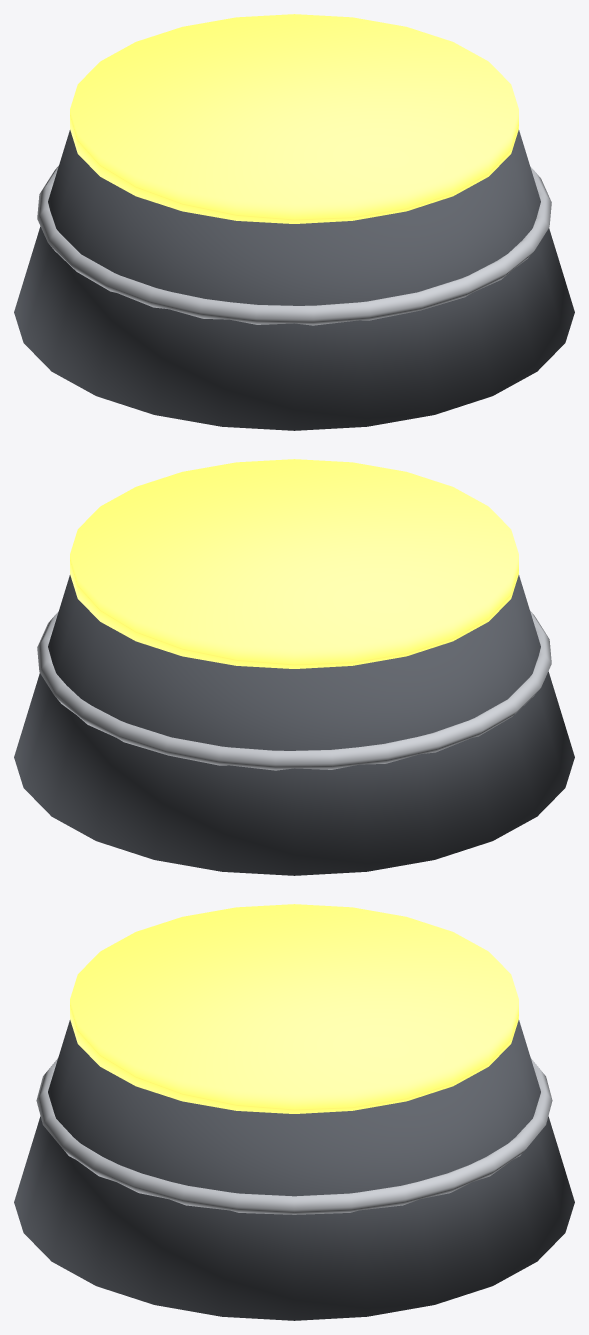
Rendered from floor_uplight_ground_pod.glb.
3 renders of one model, top to bottom at view 1: azimuth 30°, elevation 25°; view 2: azimuth 150°, elevation 25°; view 3: azimuth 270°, elevation 25°, orthographic.
Parts seen in each view (by area): view 1: GD_floor_uplight_ground_pod__m0, GD_floor_uplight_ground_pod__m1, GD_floor_uplight_ground_pod__m2; view 2: GD_floor_uplight_ground_pod__m0, GD_floor_uplight_ground_pod__m1, GD_floor_uplight_ground_pod__m2; view 3: GD_floor_uplight_ground_pod__m0, GD_floor_uplight_ground_pod__m1, GD_floor_uplight_ground_pod__m2.
Part boxes in pixels (left/top/right/bottom): GD_floor_uplight_ground_pod__m0: left=14, top=130, right=574, bottom=430; GD_floor_uplight_ground_pod__m1: left=70, top=14, right=518, bottom=223; GD_floor_uplight_ground_pod__m2: left=37, top=165, right=551, bottom=325; GD_floor_uplight_ground_pod__m0: left=14, top=575, right=574, bottom=875; GD_floor_uplight_ground_pod__m1: left=70, top=459, right=518, bottom=668; GD_floor_uplight_ground_pod__m2: left=37, top=610, right=551, bottom=770; GD_floor_uplight_ground_pod__m0: left=14, top=1020, right=574, bottom=1320; GD_floor_uplight_ground_pod__m1: left=70, top=904, right=518, bottom=1113; GD_floor_uplight_ground_pod__m2: left=36, top=1058, right=552, bottom=1214.
Bounding box in the file's own units: 0.5 × 0.2 × 0.5.
